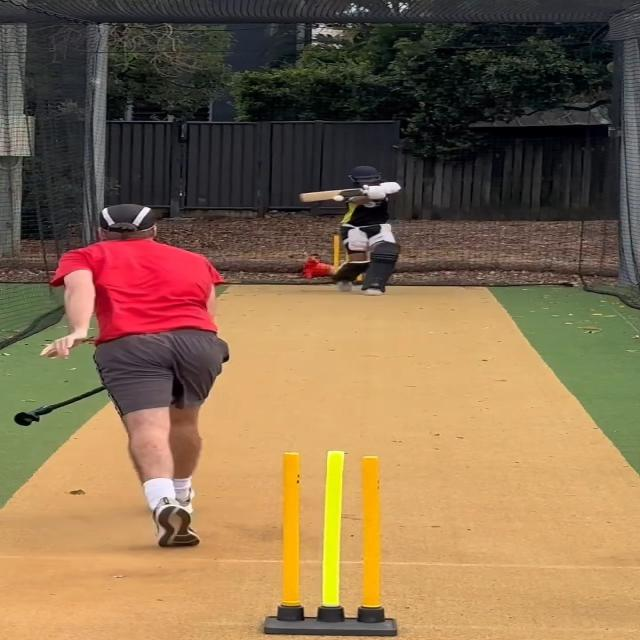stump: (262, 450, 399, 638)
